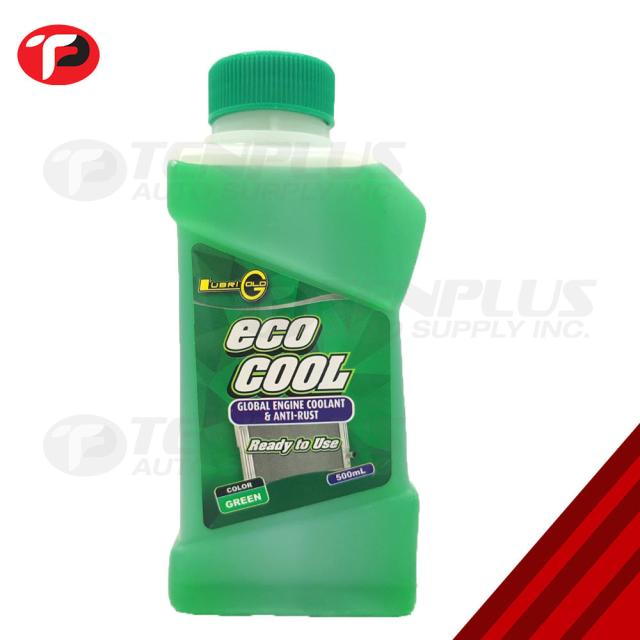coolant: (159, 49, 431, 626)
